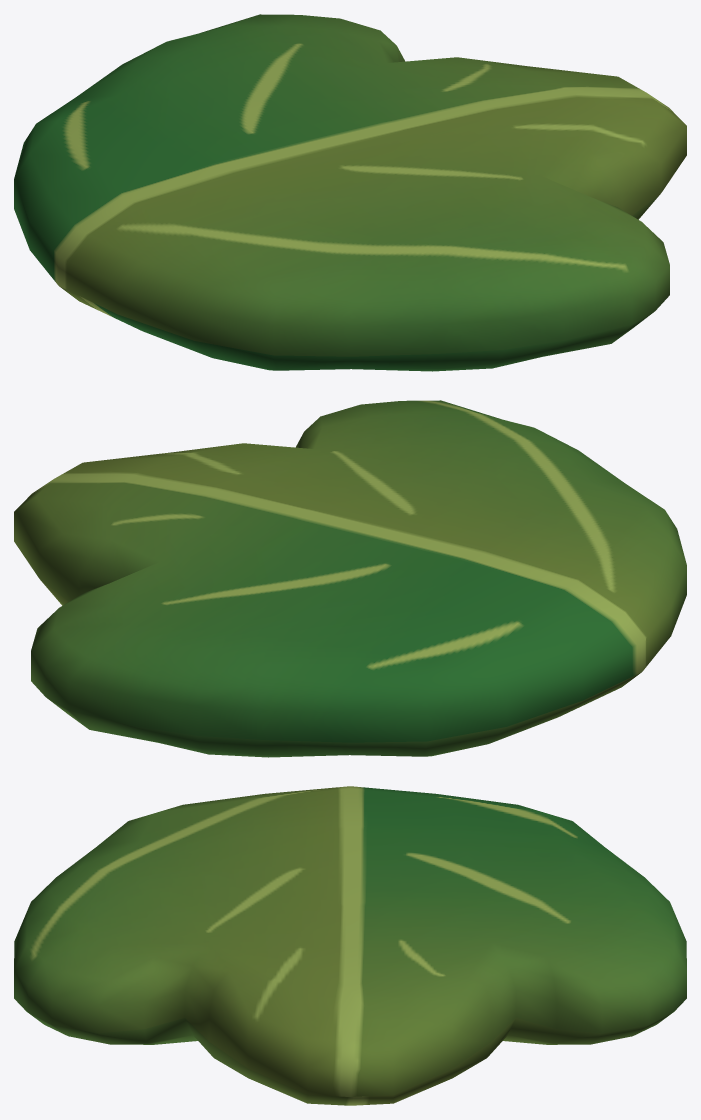
Rendered from IvyLeaf_01.fbx.
The picture shows the model from 3 angles, top to bottom: view 1: azimuth 30°, elevation 25°; view 2: azimuth 150°, elevation 25°; view 3: azimuth 270°, elevation 25°; orthographic projection. The views are drawn at different scales.
Parts seen in each view (by area): view 1: Ivyleaf_01; view 2: Ivyleaf_01; view 3: Ivyleaf_01.
Part boxes in pixels (x1,y1,x2,y2): Ivyleaf_01: [14, 14, 686, 371]; Ivyleaf_01: [14, 400, 686, 757]; Ivyleaf_01: [14, 786, 686, 1105].
Bounding box in the file's own units: 1.67 × 0.3253 × 1.73.
